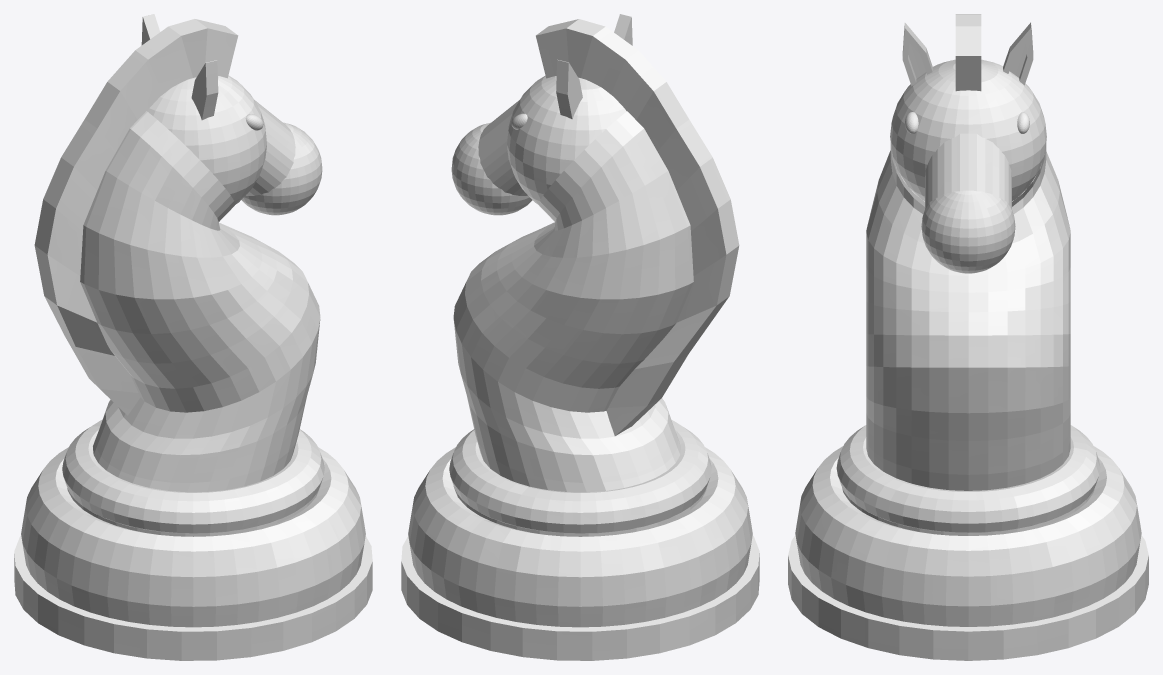
File: Horse.fbx
3 renders of one model, left to right at view 1: azimuth 30°, elevation 25°; view 2: azimuth 150°, elevation 25°; view 3: azimuth 270°, elevation 25°, orthographic.
Visible parts, largest first — view 1: HorseWhite; view 2: HorseWhite; view 3: HorseWhite.
Boxes of the visible parts, box(x1,y1,x2,y2) form: HorseWhite: box(14, 14, 372, 660); HorseWhite: box(401, 14, 759, 660); HorseWhite: box(788, 14, 1148, 660).
Bounding box in the file's own units: 81.42 × 141 × 81.42.
